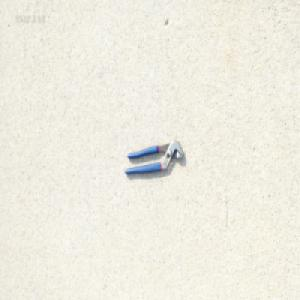Pliers: (122, 137, 182, 175)
